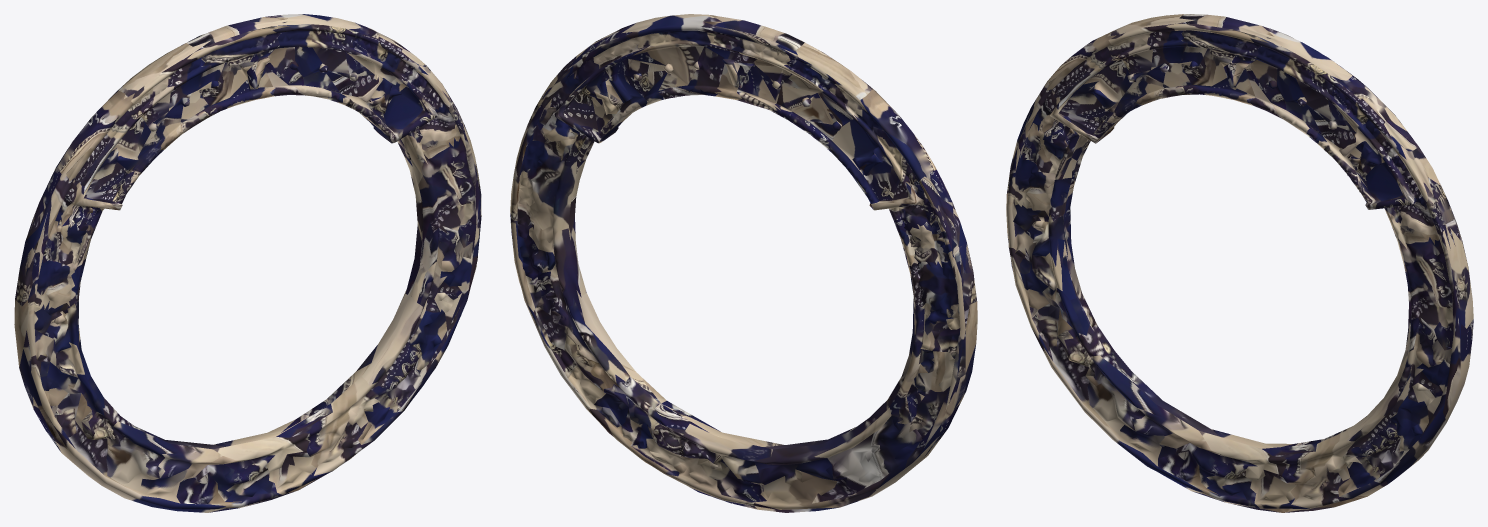
Rendered from EtherVessel_Dial.gltf.
The picture shows the model from 3 angles, left to right: view 1: azimuth 30°, elevation 25°; view 2: azimuth 150°, elevation 25°; view 3: azimuth 330°, elevation 25°; orthographic projection.
Visible parts, largest first — view 1: EtherVessel_Dial; view 2: EtherVessel_Dial; view 3: EtherVessel_Dial.
Part boxes in pixels (x1=…): EtherVessel_Dial: x1=14, y1=14, x2=481, y2=512; EtherVessel_Dial: x1=510, y1=14, x2=977, y2=512; EtherVessel_Dial: x1=1006, y1=14, x2=1473, y2=512.
Size of the model in its own units: 1.4 by 1.39 by 0.1007.
Materials: 1 (1 with a texture image).
